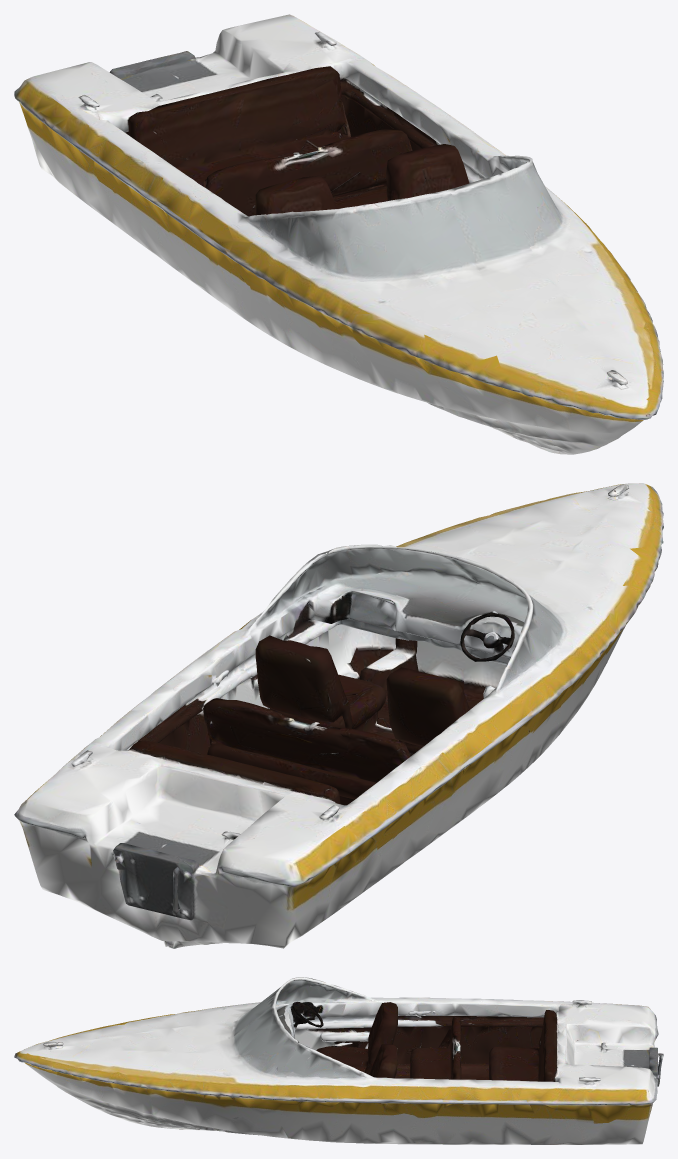
The model's file is vene.glb.
3 views of the same model, one above another, from view 1: azimuth 30°, elevation 25°; view 2: azimuth 150°, elevation 25°; view 3: azimuth 270°, elevation 25° (orthographic). The views are drawn at different scales.
Parts seen in each view (by area): view 1: Runko; view 2: Runko; view 3: Runko.
Part boxes in pixels (x1,y1,x2,y2): Runko: [14, 14, 663, 454]; Runko: [14, 483, 663, 948]; Runko: [14, 977, 663, 1144].
Size of the model in its own units: 1.7 by 1.03 by 4.8.
1 material, 1 textured.
